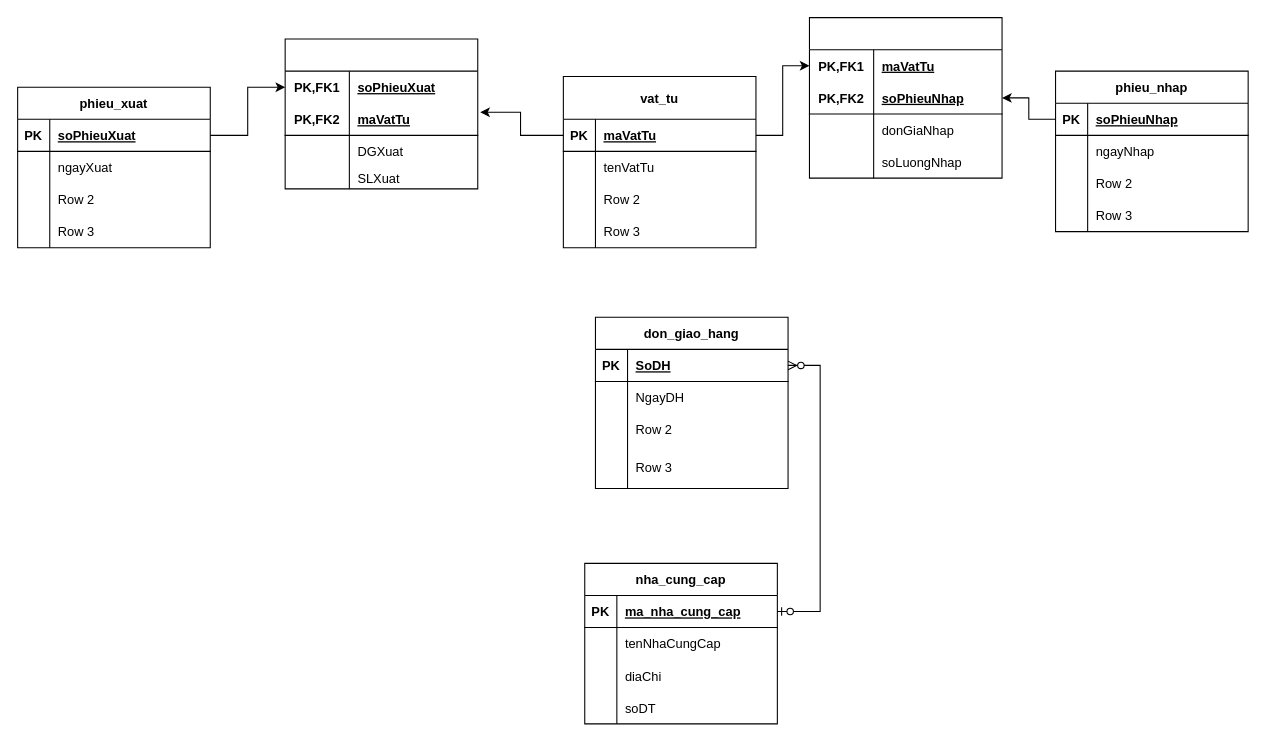
Some shapes in this 1266 by 742 pixel diagram are drawn without their labels. Here are the shapes that lost their labels. From the top down, the box of each, then its label:
(284, 38, 478, 189): chi_tiet_phieu_xuat
(808, 17, 1002, 178): chi_tiet_phieu_nhap
